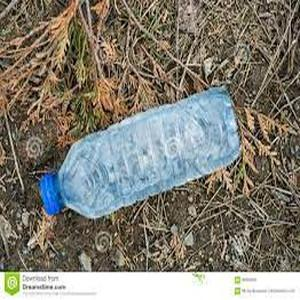Plastic: (39, 88, 243, 221)
